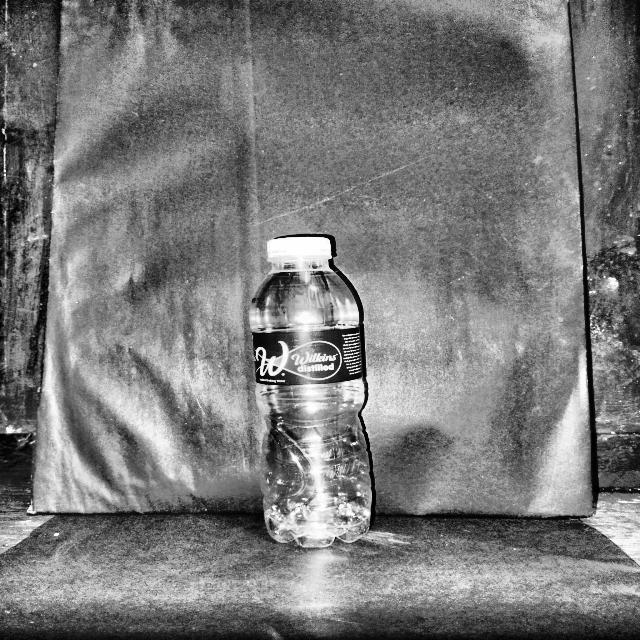Plastic-Bottle: (248, 235, 379, 547)
